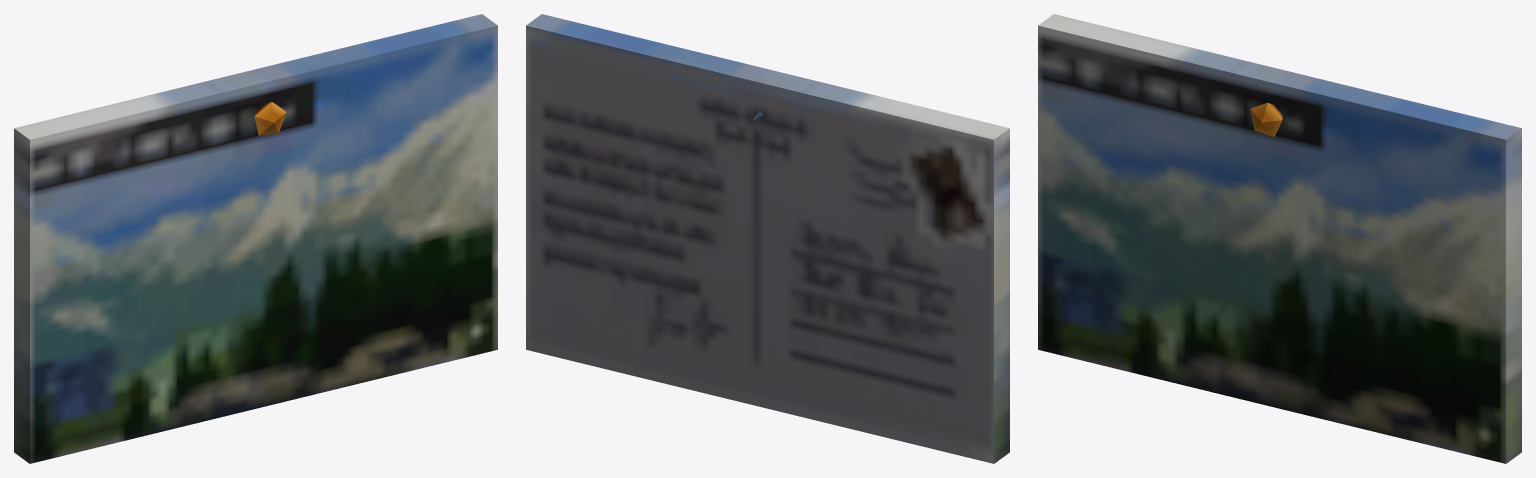
The model's file is postal6.1.fbx.
The picture shows the model from 3 angles, left to right: view 1: azimuth 30°, elevation 25°; view 2: azimuth 150°, elevation 25°; view 3: azimuth 330°, elevation 25°; orthographic projection.
Parts seen in each view (by area): view 1: s4studio_mesh_0; view 2: s4studio_mesh_0; view 3: s4studio_mesh_0.
Boxes of the visible parts, left/top/right/bottom form: s4studio_mesh_0: left=14, top=14, right=497, bottom=463; s4studio_mesh_0: left=526, top=14, right=1009, bottom=463; s4studio_mesh_0: left=1038, top=14, right=1521, bottom=463.
Bounding box in the file's own units: 24.03 × 15.9 × 2.99.
Materials: 1 (1 with a texture image).
